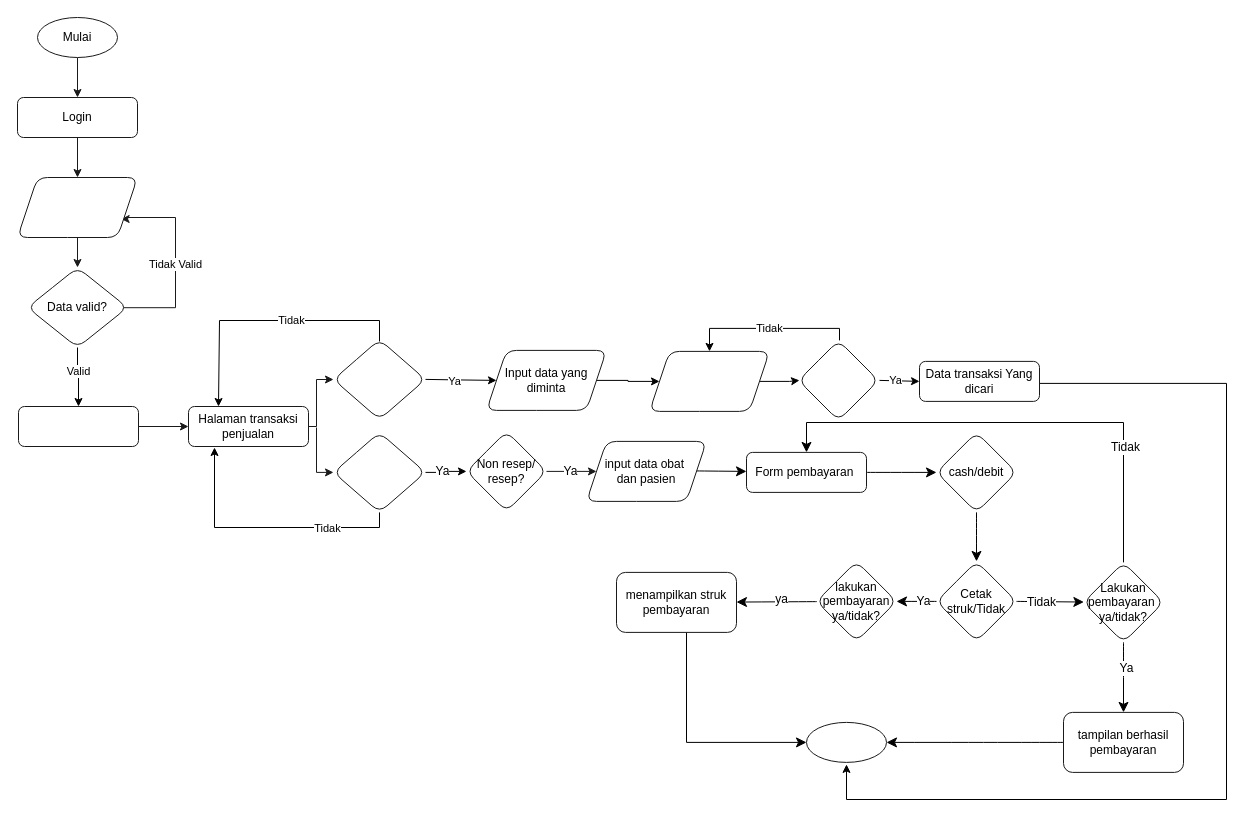
Some shapes in this 1252 by 825 pixel diagram are drawn without their labels. The shapes that lost their labels are listed below. From the top down, each one's centre as x and y in pixels, then its label:
At point (77, 207): "username password shift".
At point (379, 379): "Buka?".
At point (709, 380): "Input data transaksi yang ingin dicari".
At point (838, 380): "Hapus/Cari".
At point (78, 426): "Pos Apotek".
At point (379, 471): "Kelola Transaksi?".
At point (846, 741): "Selesai".
